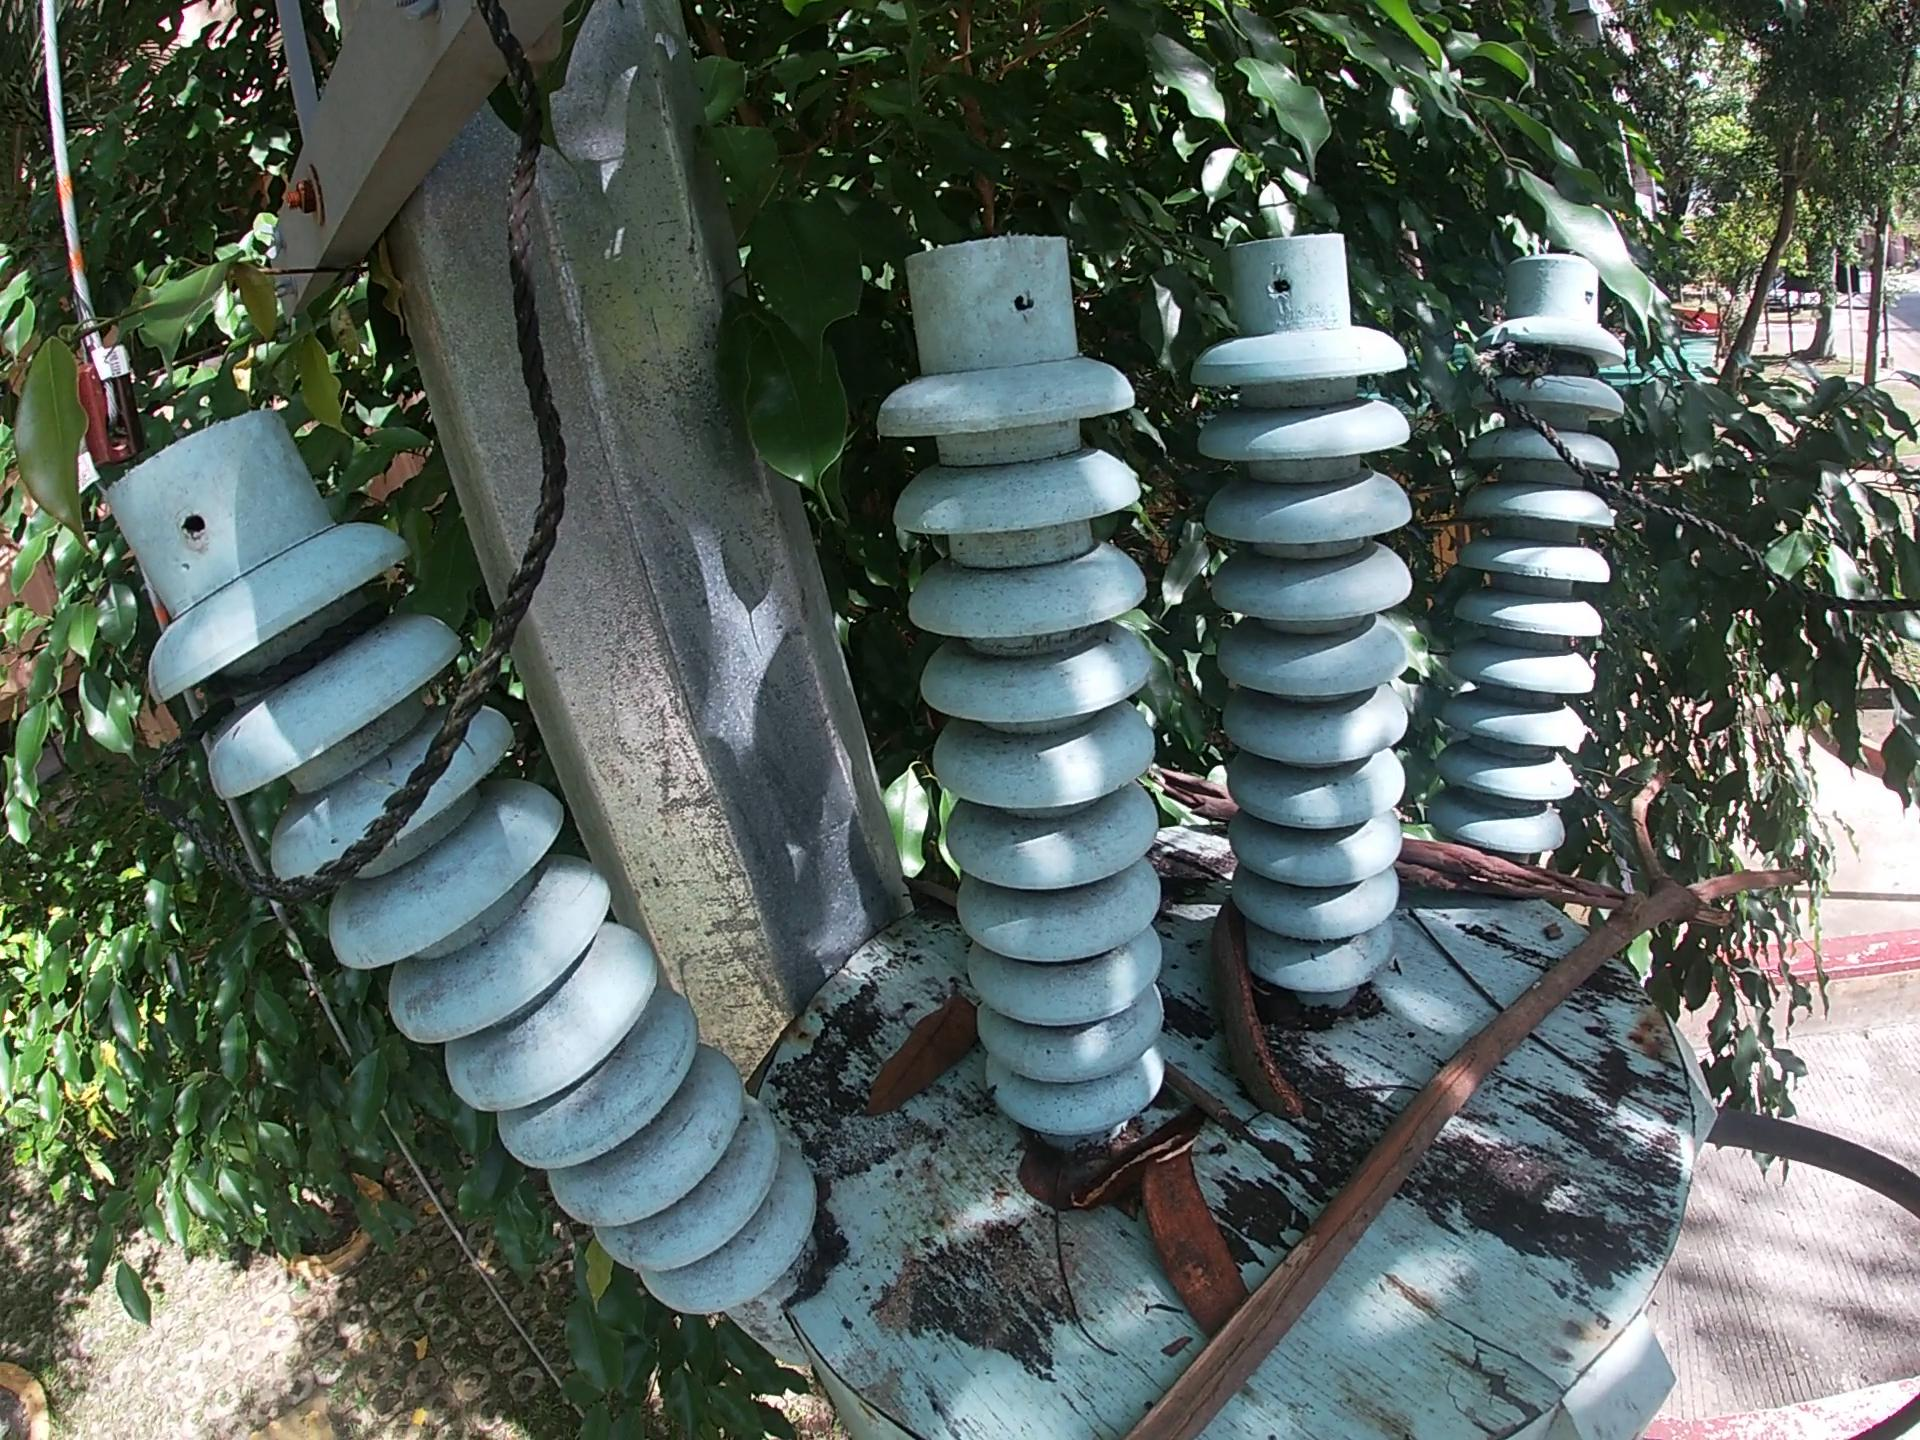leaf: (868, 988, 980, 1119), (1010, 1142, 1084, 1215)
mahogany fruit: (1197, 895, 1317, 1151), (1125, 1141, 1252, 1337)
tree branch: (1085, 753, 1835, 1440), (1407, 905, 1631, 1097), (1398, 849, 1640, 914), (1070, 1119, 1206, 1216), (1049, 1213, 1120, 1386), (1172, 1063, 1259, 1137), (1149, 767, 1231, 824), (900, 876, 958, 911)
